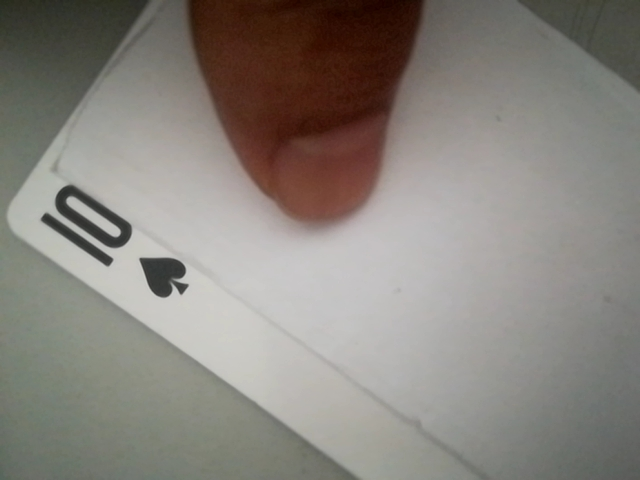ht 10: (16, 173, 203, 309)
